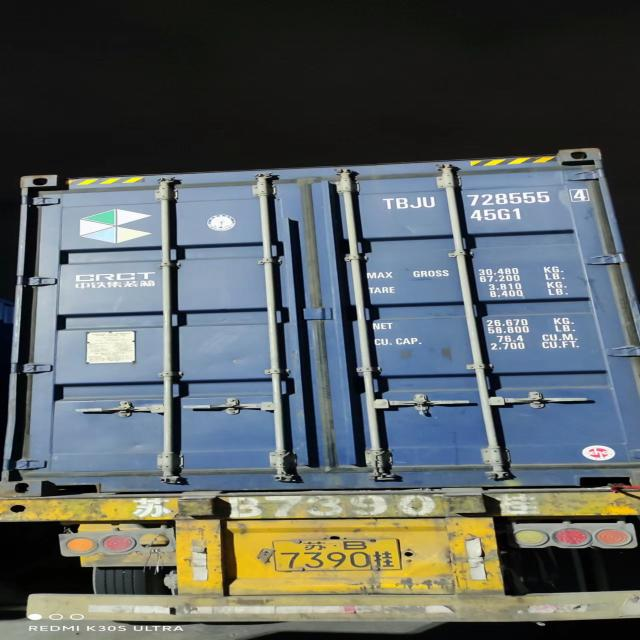seal: (406, 388, 434, 418)
